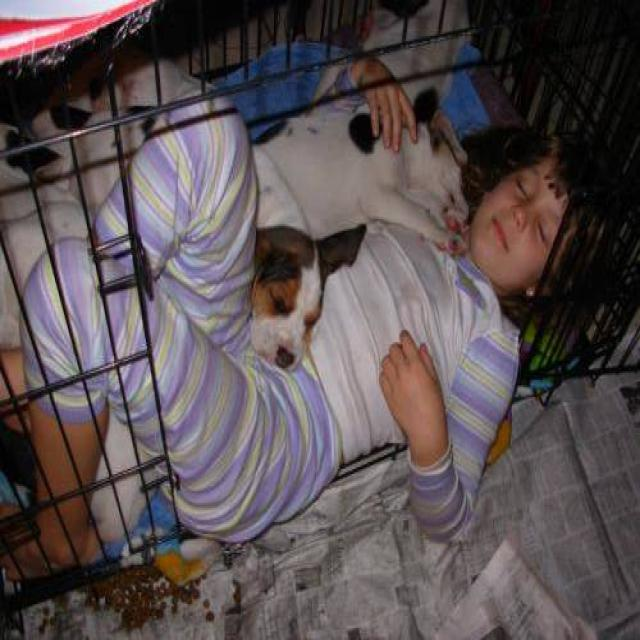cat: (64, 41, 334, 378), (232, 41, 478, 269)
